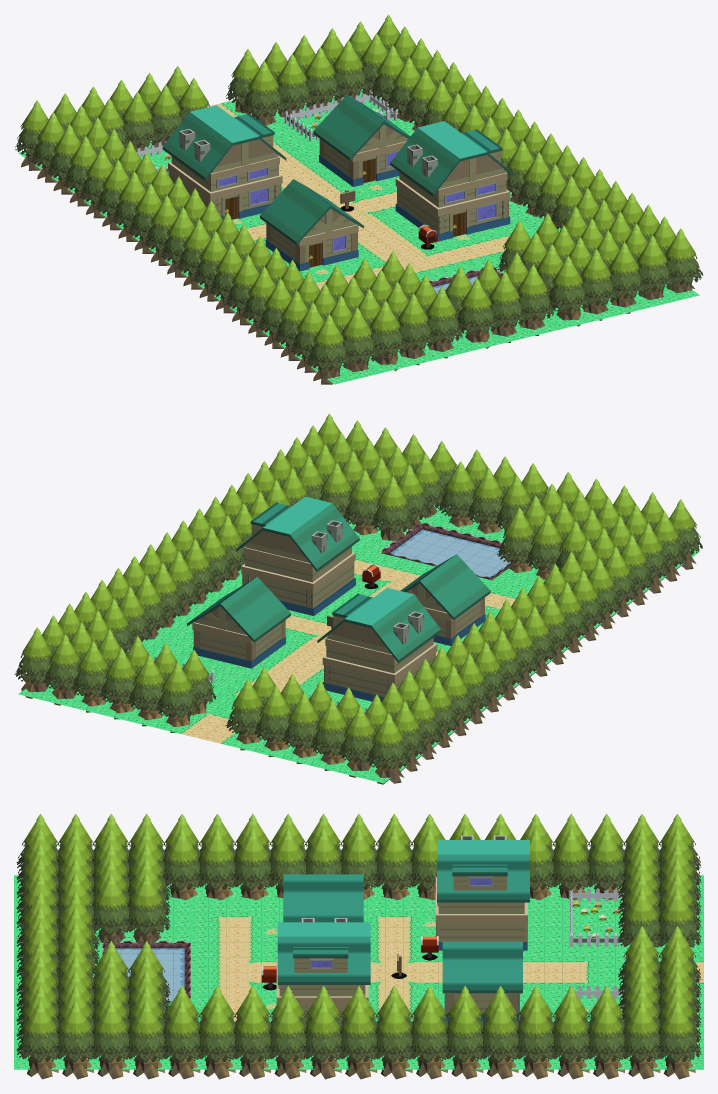
Rendered from mdl_FBX_TwinLeafTown.fbx.
The picture shows the model from 3 angles, top to bottom: view 1: azimuth 30°, elevation 25°; view 2: azimuth 150°, elevation 25°; view 3: azimuth 270°, elevation 25°; orthographic projection. The views are drawn at different scales.
Visible parts, largest first — view 1: Mesh_TreePine2 (×10), Mesh_HouseLarge, Mesh_TreePine4 (×10), Mesh_HouseLarge1, Mesh_TreePine15 (×8), Mesh_TreePine1 (×8), Mesh_HouseSmall1, Mesh_HouseSmall, Mesh_TreePine7 (×4), Mesh_TreePine10 (×3), Mesh_TreePine9 (×3), Mesh_TreePine3 (×2) (+3 smaller); view 2: Mesh_TreePine15 (×9), Mesh_HouseLarge, Mesh_HouseLarge1, Mesh_TreePine4 (×7), Mesh_TreePine2 (×7), Mesh_TreePine1 (×7), Mesh_HouseSmall, Mesh_TreePine14 (×3), Mesh_TreePine (×3), Mesh_TreePine3 (×3), Mesh_HouseSmall1, Mesh_TreePine5 (×3) (+5 smaller); view 3: Mesh_TreePine3 (×12), Mesh_TreePine14 (×11), Mesh_TreePine5 (×12), Mesh_TreePine (×11), Mesh_HouseLarge1, Mesh_TreePine1 (×11), Mesh_HouseLarge, Mesh_TreePine2 (×12), Mesh_TreePine4 (×12), Mesh_TreePine15 (×11), Mesh_HouseSmall, Mesh_HouseSmall1 (+8 smaller).
Part boxes in pixels (box(x1,y1,x2,y2)): Mesh_TreePine2 (×10): box(47, 45, 673, 384); Mesh_HouseLarge: box(390, 121, 513, 241); Mesh_TreePine4 (×10): box(31, 33, 582, 372); Mesh_HouseLarge1: box(162, 105, 286, 219); Mesh_TreePine15 (×8): box(15, 60, 566, 360); Mesh_TreePine1 (×8): box(64, 40, 550, 348); Mesh_HouseSmall1: box(260, 179, 363, 271); Mesh_HouseSmall: box(313, 95, 410, 186); Mesh_TreePine7 (×4): box(369, 232, 589, 371); Mesh_TreePine10 (×3): box(425, 242, 645, 358); Mesh_TreePine9 (×3): box(397, 249, 617, 365); Mesh_TreePine3 (×2): box(341, 228, 703, 371); Mesh_TreePine15 (×9): box(44, 523, 670, 784); Mesh_HouseLarge: box(236, 496, 359, 615); Mesh_HouseLarge1: box(317, 587, 440, 701); Mesh_TreePine4 (×7): box(135, 511, 686, 771); Mesh_TreePine2 (×7): box(151, 499, 702, 759); Mesh_TreePine1 (×7): box(102, 456, 653, 747); Mesh_HouseSmall: box(187, 576, 290, 668); Mesh_TreePine14 (×3): box(14, 627, 376, 777); Mesh_TreePine (×3): box(72, 507, 535, 756); Mesh_TreePine3 (×3): box(100, 514, 563, 763); Mesh_HouseSmall1: box(400, 554, 490, 645); Mesh_TreePine5 (×3): box(128, 521, 592, 770); Mesh_TreePine3 (×12): box(16, 828, 701, 1079); Mesh_TreePine14 (×11): box(92, 828, 701, 1079); Mesh_TreePine5 (×12): box(56, 828, 701, 1079); Mesh_TreePine (×11): box(127, 828, 701, 1079); Mesh_HouseLarge1: box(435, 835, 529, 950); Mesh_TreePine1 (×11): box(92, 813, 661, 1052); Mesh_HouseLarge: box(276, 918, 370, 1021); Mesh_TreePine2 (×12): box(16, 813, 661, 1052); Mesh_TreePine4 (×12): box(56, 814, 661, 1052); Mesh_TreePine15 (×11): box(92, 813, 701, 1052); Mesh_HouseSmall: box(442, 941, 522, 1021); Mesh_HouseSmall1: box(283, 874, 363, 922).
Size of the model in its own units: 27.69 by 5.74 by 39.
